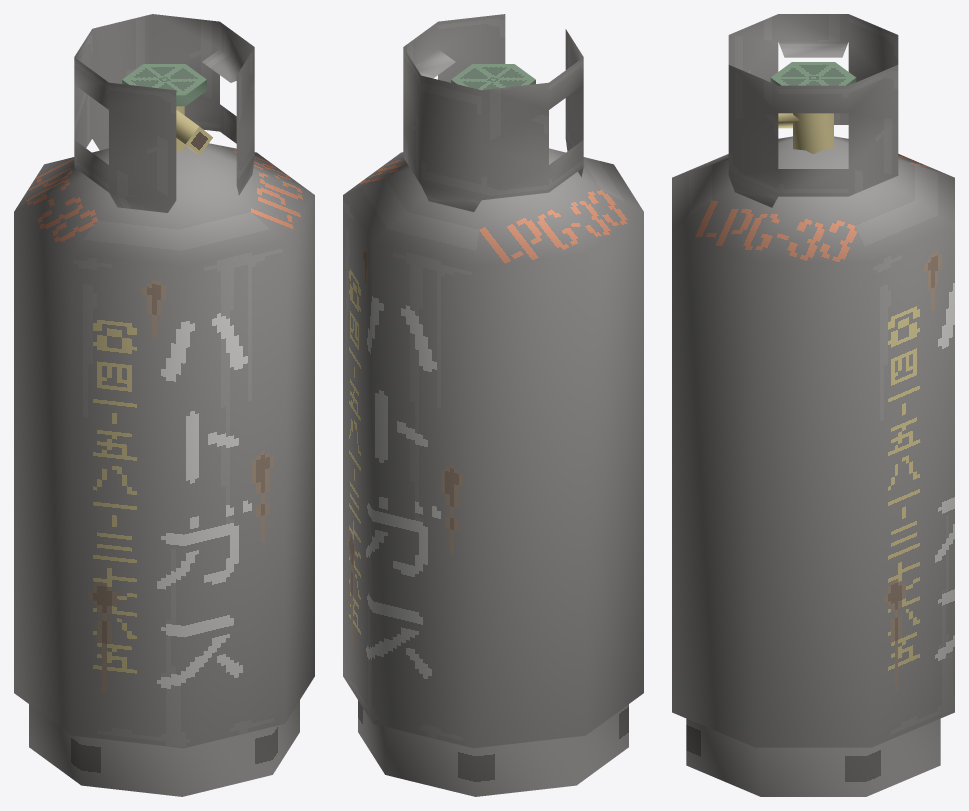
The model's file is 00ab_Propane_Tank.glb.
3 views of the same model, side by side, from view 1: azimuth 30°, elevation 25°; view 2: azimuth 150°, elevation 25°; view 3: azimuth 270°, elevation 25° (orthographic).
Visible parts, largest first — view 1: part_0; view 2: part_0; view 3: part_0.
Boxes of the visible parts, x1,y1,x2,y2 form: part_0: [14, 14, 314, 796]; part_0: [343, 14, 643, 796]; part_0: [672, 14, 954, 796].
Bounding box in the file's own units: 0.4619 × 1.25 × 0.4619.
1 material, 1 textured.
